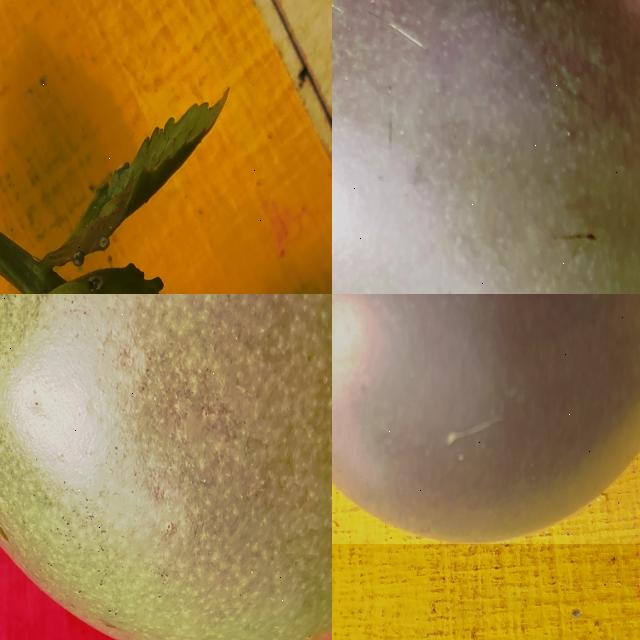Estado-3: (332, 0, 640, 294)
Estado-4: (332, 294, 640, 543)
